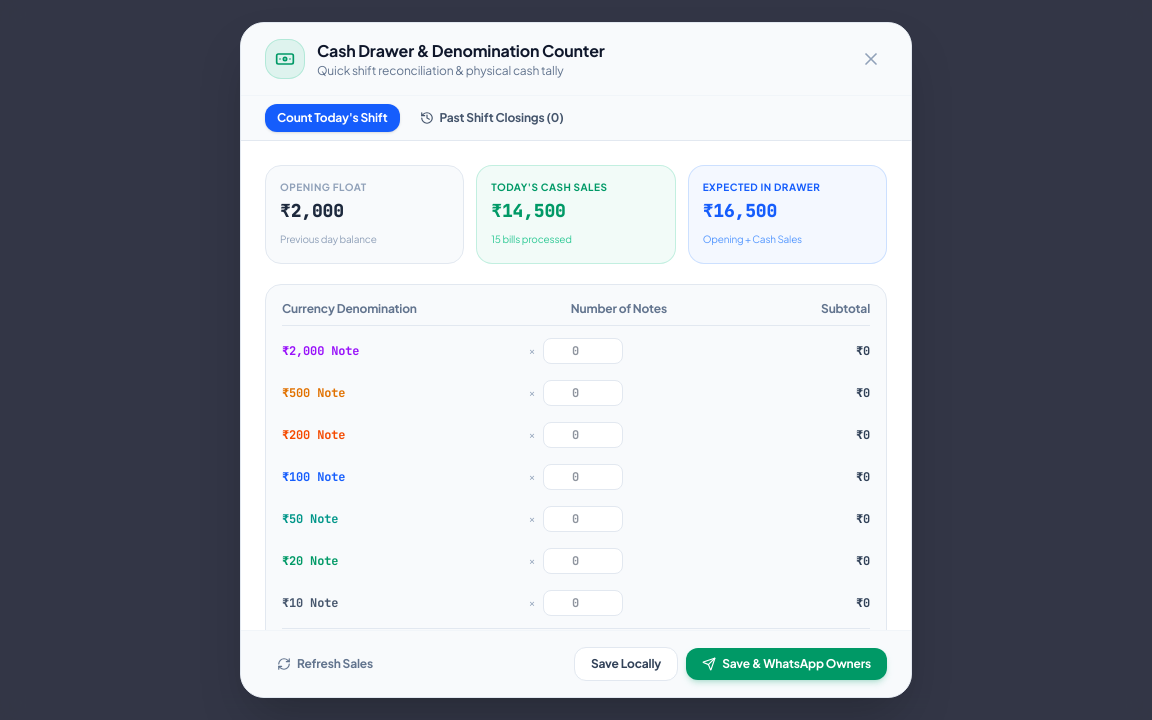
Scenario: Feature 2: Cash Drawer Denomination Modal › flags shortage when physical cash is less than expected
This screenshot has width=1152, height=720.
Type "10" into the number field with placeholder "0" in the row of "₹500 Note".
click(583, 393); type("10")  # box [543,380,623,406]
(page scrolled)
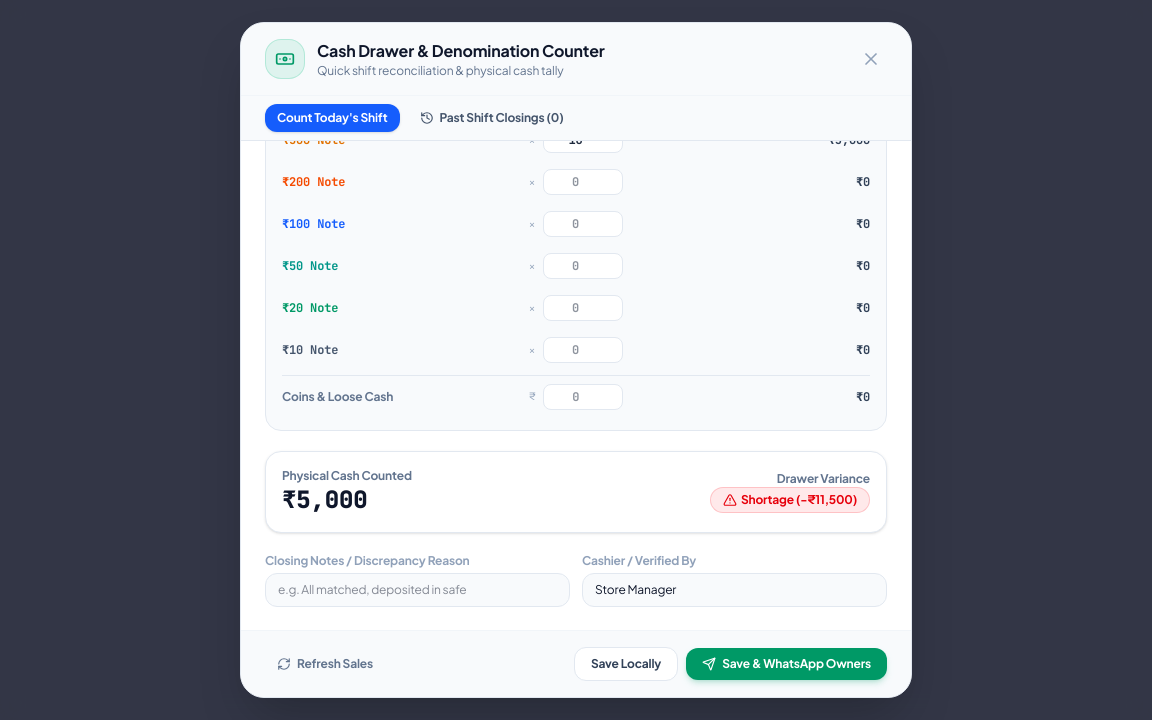
Now the text "Shortage (-₹11,500)" is shown, box [710,487,870,513]
